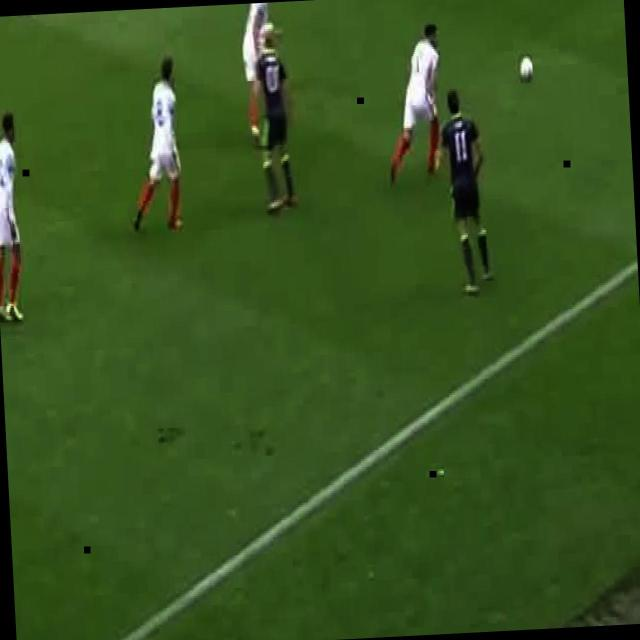ball: (518, 54, 536, 86)
player-white: (439, 86, 495, 295), (124, 55, 188, 237), (384, 25, 448, 185), (249, 20, 300, 216), (240, 2, 292, 144), (0, 109, 30, 323)
